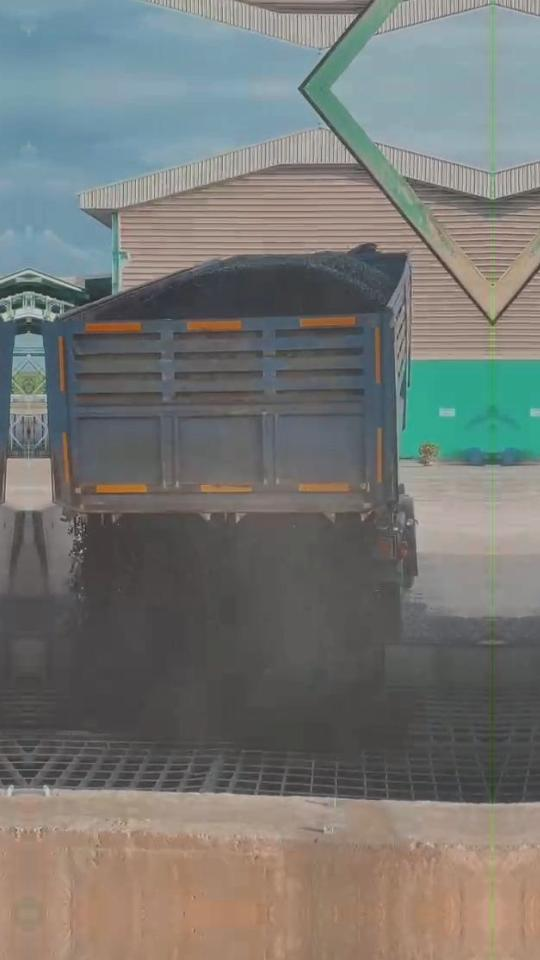gravel: (67, 514, 386, 740), (94, 246, 403, 320), (404, 602, 492, 643)
